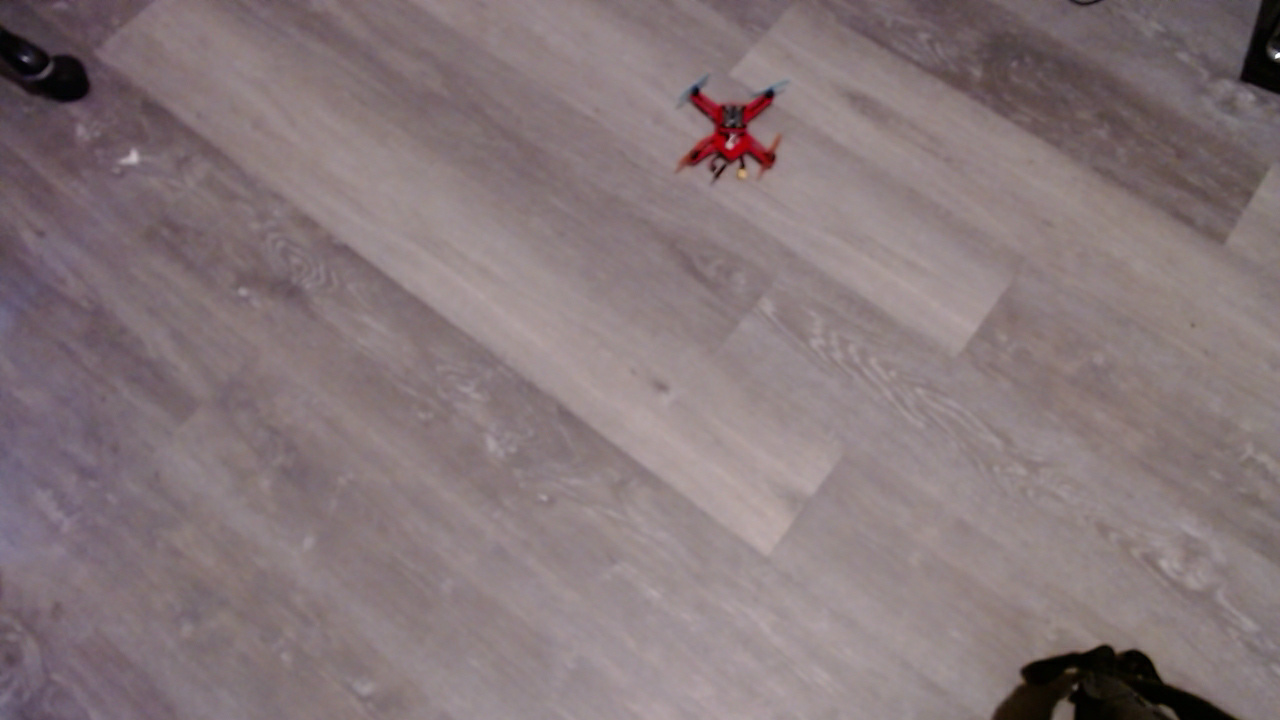crazyflie: (669, 68, 807, 195)
